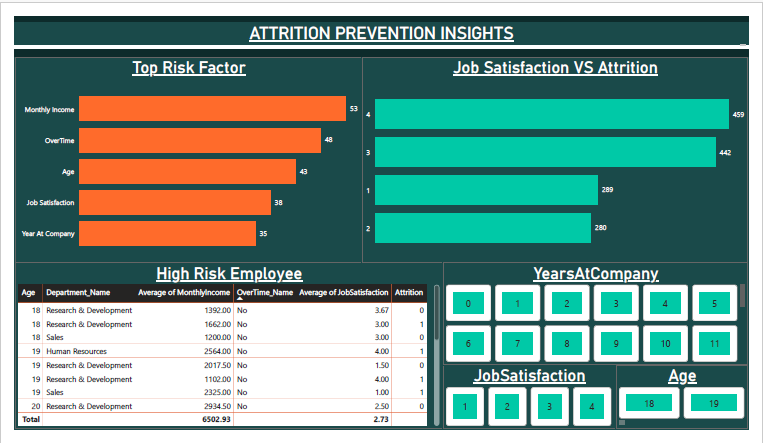

The dashboard page shown, as its layout file describes it:
{"tool":"powerbi","page":{"name":"Prevention Insights","canvas":[1280,720],"ordinal":2},"visuals":[{"type":"textbox","title":"ATTRITION PREVENTION INSIGHTS","box":[0,10.3,1280,44.2],"z":0},{"type":"clusteredBarChart","title":"Top Risk Factor","fields":{"Category":["Table.Factor"],"Y":["Sum(Table.Score)"]},"box":[0,70.8,606.1,358.3],"z":1000},{"type":"tableEx","title":"High Risk Employee","fields":{"Values":["hr_attrition_cleaned (1).Age","hr_attrition_cleaned (1).Department_Name","Avg(hr_attrition_cleaned (1).MonthlyIncome)","hr_attrition_cleaned (1).OverTime_Name","Avg(hr_attrition_cleaned (1).JobSatisfaction)","hr_attrition_cleaned (1).Attrition"]},"box":[0,429.4,746.9,290.6],"z":2000},{"type":"clusteredBarChart","title":"Job Satisfaction VS Attrition","fields":{"Category":["hr_attrition_cleaned (1).JobSatisfaction"],"Y":["CountNonNull(hr_attrition_cleaned (1).Attrition)"]},"box":[606.1,70.8,673.9,358.3],"z":3000},{"type":"advancedSlicerVisual","fields":{"Values":["hr_attrition_cleaned (1).JobSatisfaction"]},"box":[746.9,608,301.9,112],"z":4000},{"type":"advancedSlicerVisual","fields":{"Values":["hr_attrition_cleaned (1).YearsAtCompany"]},"box":[746.9,429.4,532.9,178.6],"z":5000},{"type":"advancedSlicerVisual","fields":{"Values":["hr_attrition_cleaned (1).Age"]},"box":[1048.8,608,231,112],"z":6000}]}

Visuals, with their boxes on the page's 1280x720 design canvas (x1, y1, x2, y2). These are canvas units, not pixel positions in the 763x443 screenshot, which may show the page scaled, cropped or inside an application window:
"ATTRITION PREVENTION INSIGHTS" textbox: bbox=(0, 10, 1280, 54)
"Top Risk Factor" clusteredBarChart: bbox=(0, 71, 606, 429)
"High Risk Employee" tableEx: bbox=(0, 429, 747, 720)
"Job Satisfaction VS Attrition" clusteredBarChart: bbox=(606, 71, 1280, 429)
advancedSlicerVisual - hr_attrition_cleaned (1).JobSatisfaction: bbox=(747, 608, 1049, 720)
advancedSlicerVisual - hr_attrition_cleaned (1).YearsAtCompany: bbox=(747, 429, 1280, 608)
advancedSlicerVisual - hr_attrition_cleaned (1).Age: bbox=(1049, 608, 1280, 720)
